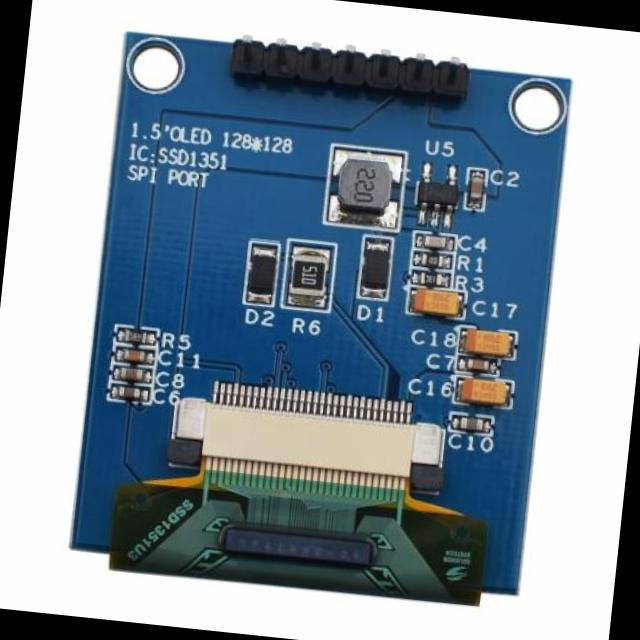IC: (411, 158, 462, 222)
capacitor: (456, 324, 516, 358), (410, 285, 466, 318), (455, 374, 515, 404), (458, 350, 496, 375), (112, 346, 154, 368), (115, 382, 154, 403), (454, 414, 492, 435), (418, 228, 452, 250), (116, 364, 156, 382), (467, 172, 485, 208)
connector: (170, 390, 447, 504), (217, 28, 474, 116)
diode: (242, 246, 284, 311), (358, 232, 394, 300)
resistor: (284, 242, 330, 308), (116, 326, 156, 347), (416, 271, 456, 289), (417, 250, 449, 272)
